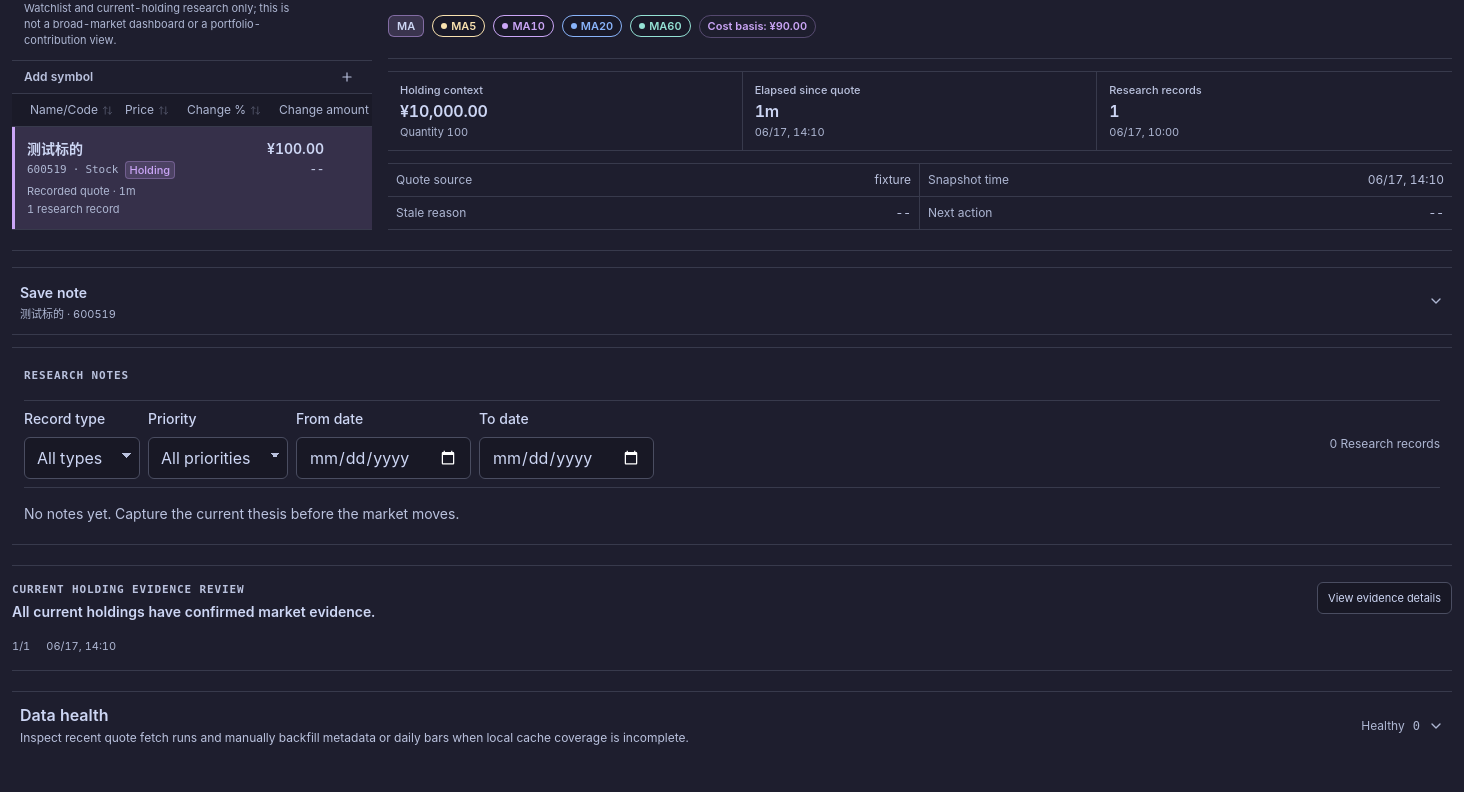
it: reports an empty managed daily-bar history without claiming coverage
The width and height of the screenshot is (1464, 792).
(page scrolled)
Click the heading that starts with "Data health" at (64, 714), box [20,704,1444,744]
(page scrolled)
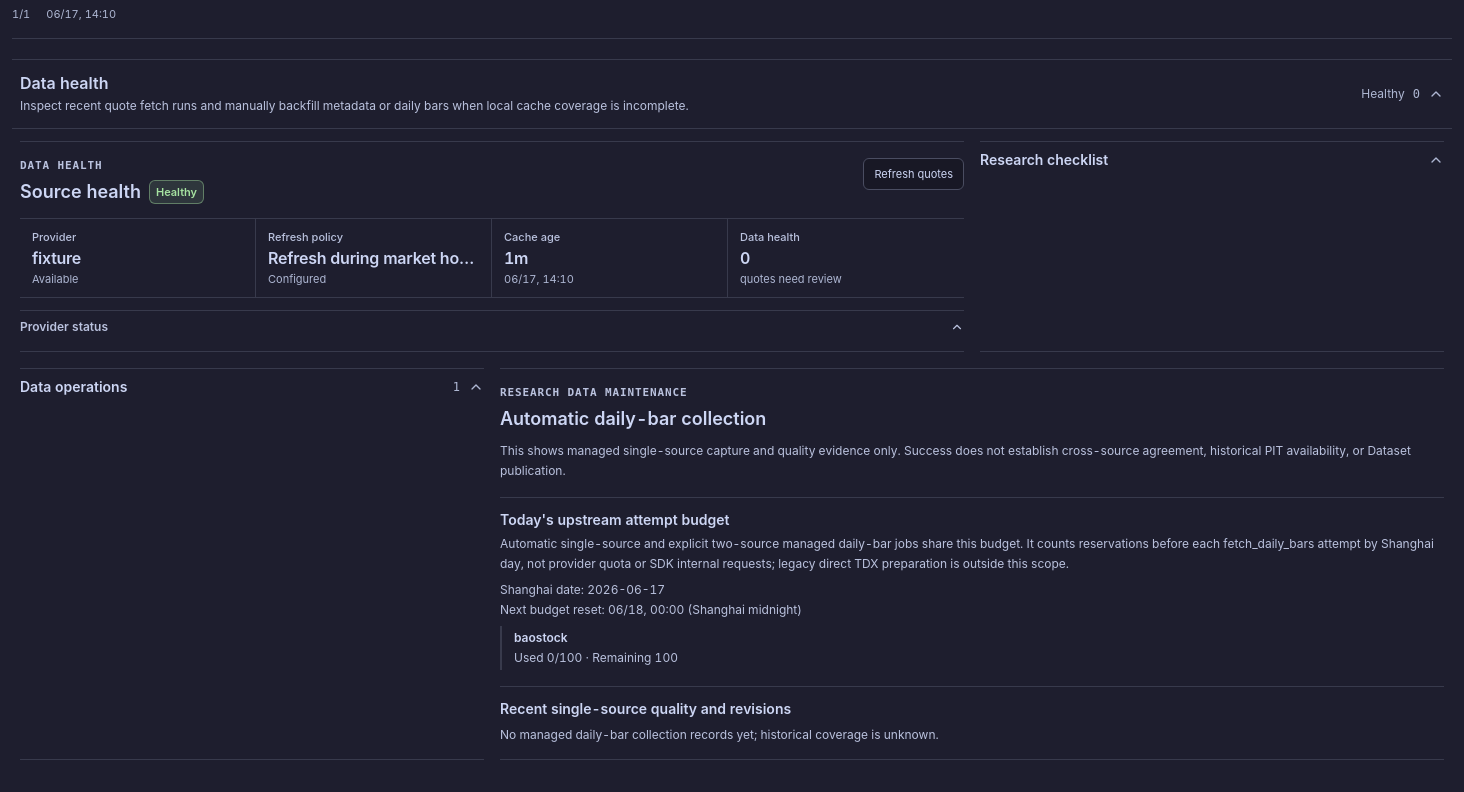
expect the text "No managed daily-bar collection records yet" is shown: met, box [500,726,939,742]
